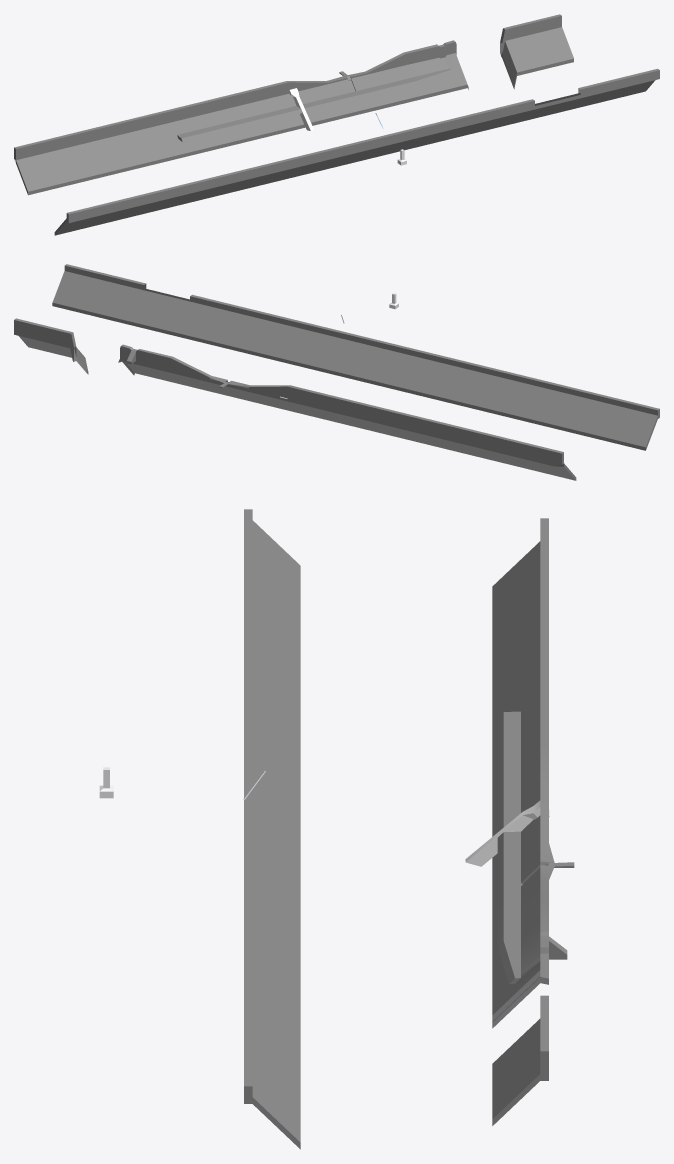
Rendered from ObjsSeparados.fbx.
3 renders of one model, top to bottom at view 1: azimuth 30°, elevation 25°; view 2: azimuth 150°, elevation 25°; view 3: azimuth 270°, elevation 25°, orthographic. The views are drawn at different scales.
Visible parts, largest first — view 1: Decoração, Decoração.002; view 2: Decoração.002, Decoração; view 3: Decoração.002, Decoração.
Part boxes in pixels (x1,y1,x2,y2): Decoração: [14, 14, 573, 195]; Decoração.002: [54, 68, 659, 235]; Decoração.002: [52, 264, 659, 450]; Decoração: [14, 314, 576, 480]; Decoração.002: [244, 509, 300, 1149]; Decoração: [243, 518, 574, 1125].
Bounding box in the file's own units: 32408 × 3478 × 11268.
